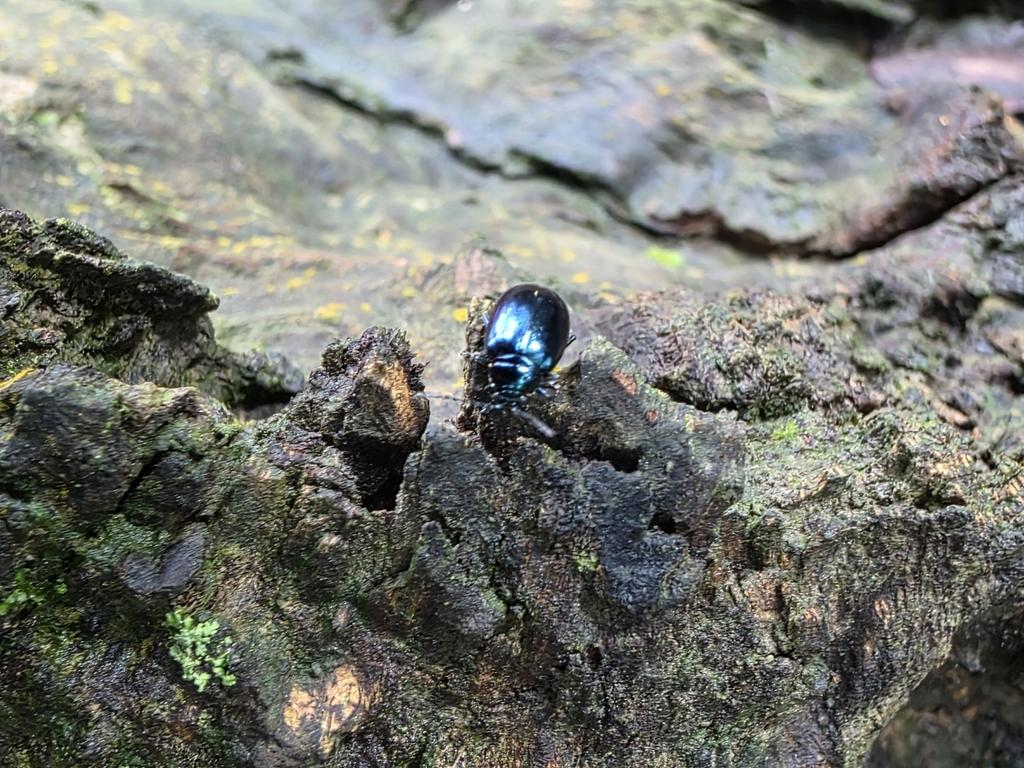flea_beetle: (397, 233, 624, 479)
